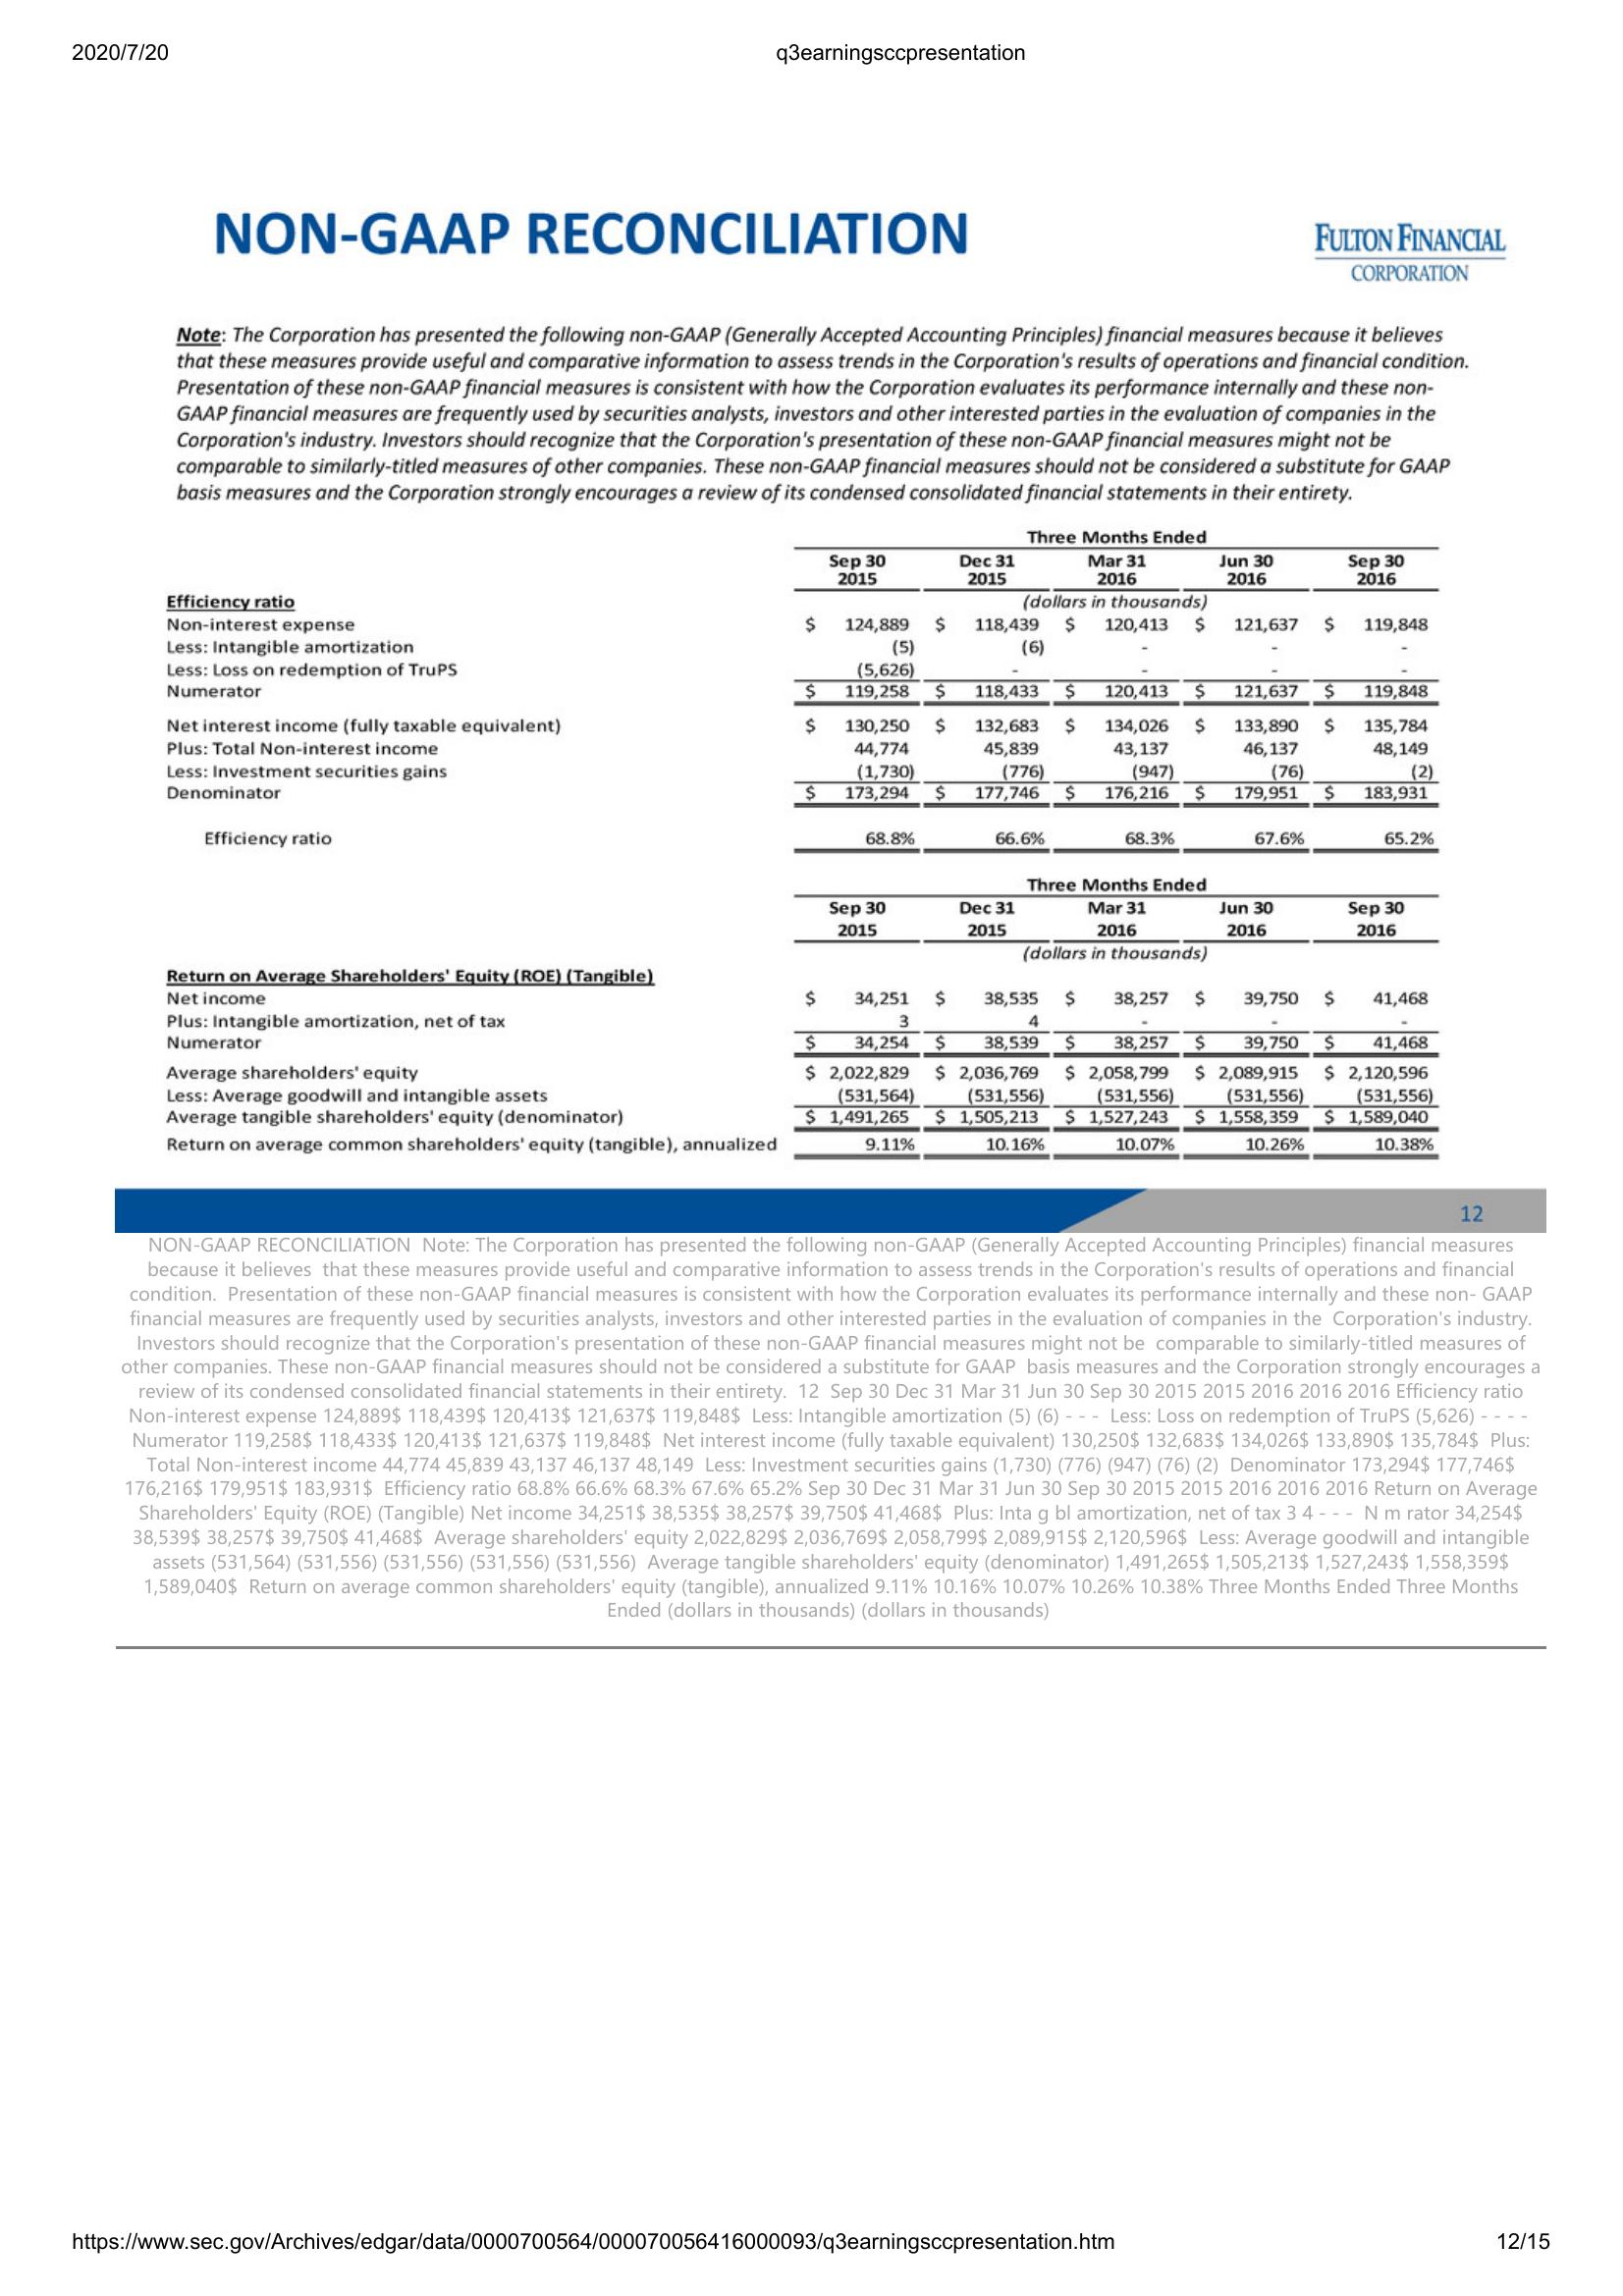table: (151, 523, 1461, 860), (153, 869, 1449, 1167)
